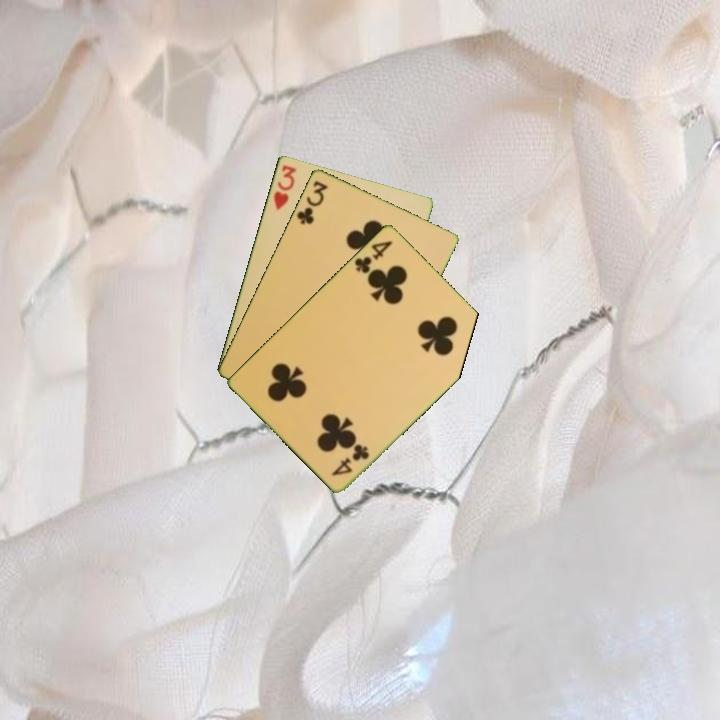3c: (293, 177, 331, 227)
3h: (270, 161, 299, 213)
4c: (351, 237, 395, 276), (328, 440, 372, 478)
